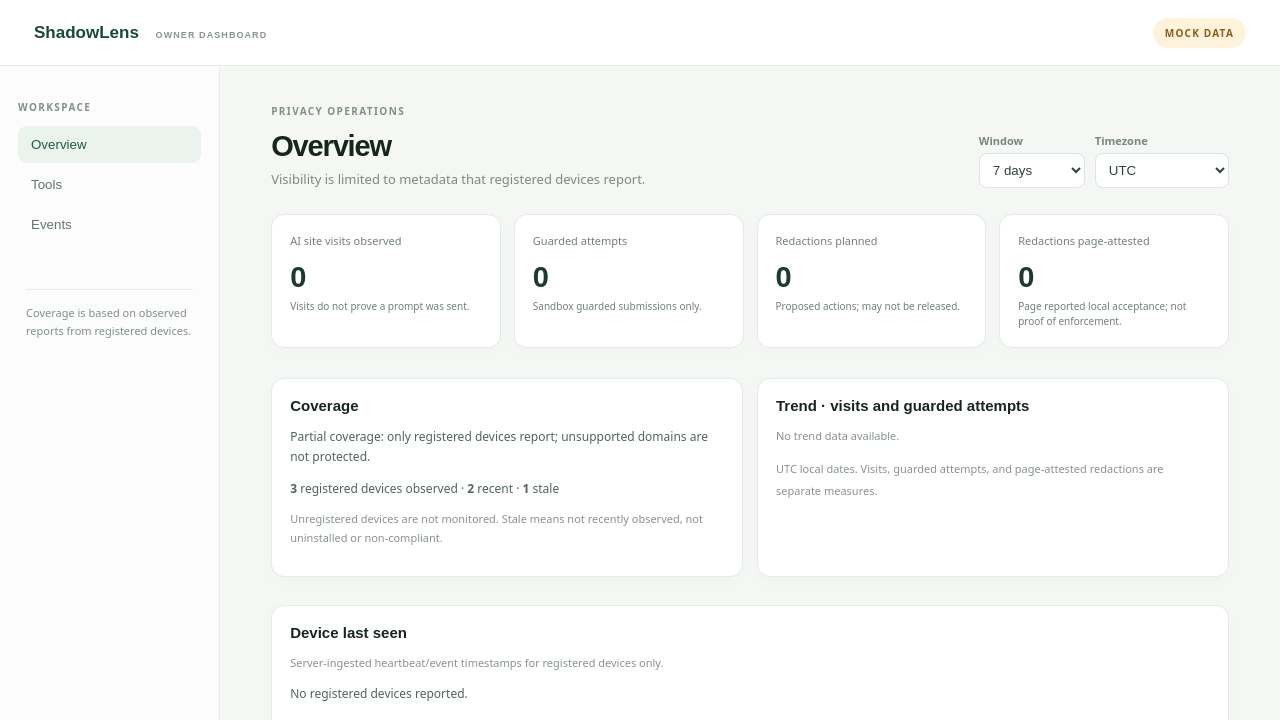
Scenario: dashboard mock experience › renders empty and partial payloads without inventing counts
Expected: the text "No trend data available." is shown, [776, 428, 899, 443]
Expected: the text "0" below "AI site visits observed" is shown, [290, 261, 306, 293]
Click the button "Events".
click(110, 224)  # box [18, 206, 201, 243]
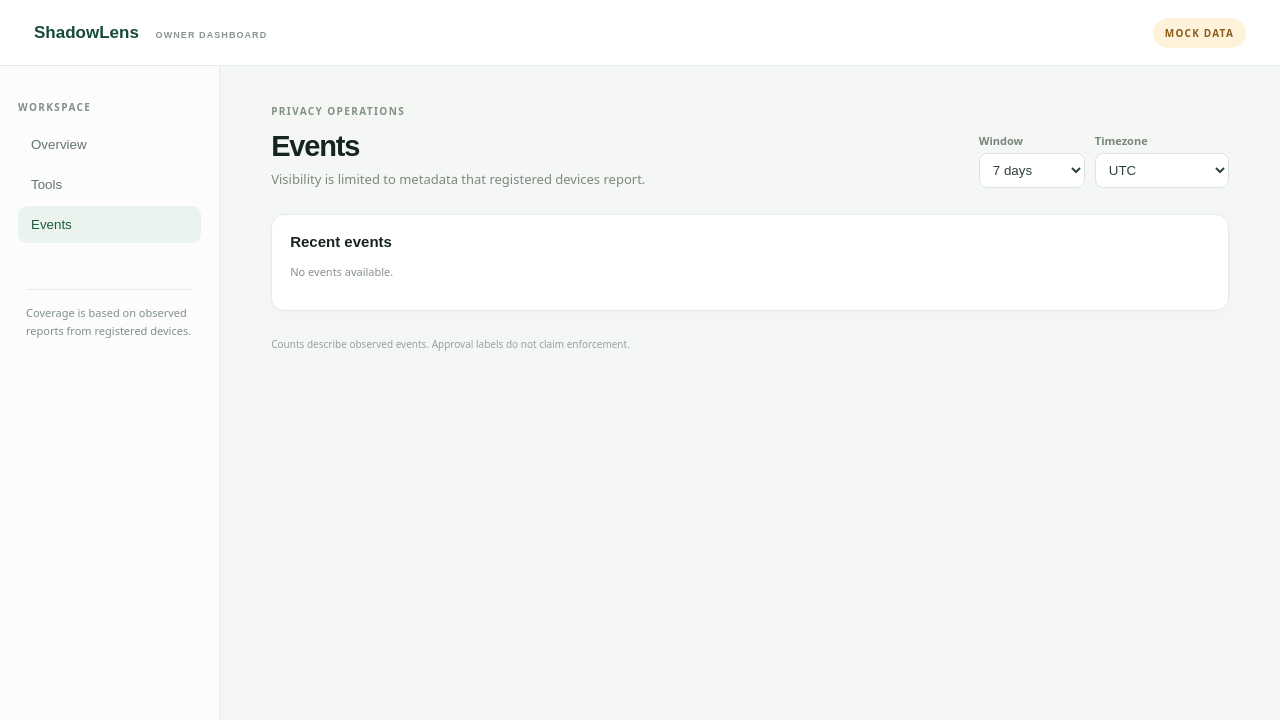
Expected: the text "No events available." is shown, [290, 264, 393, 279]
